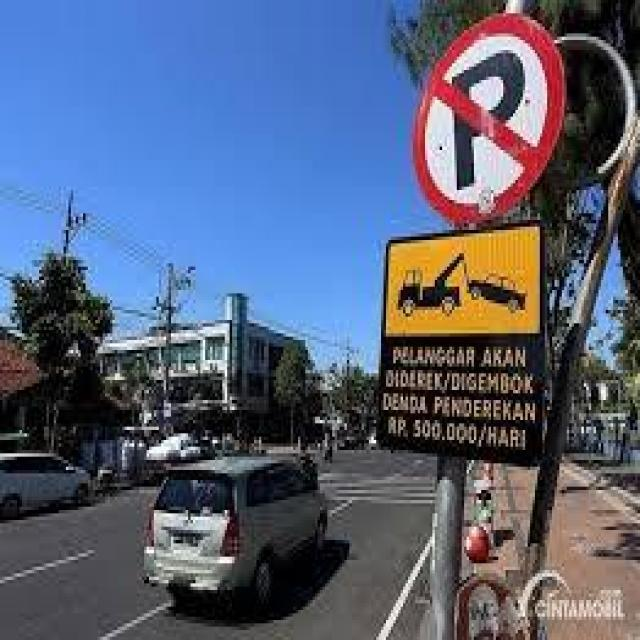traffic sign: (415, 17, 566, 224)
